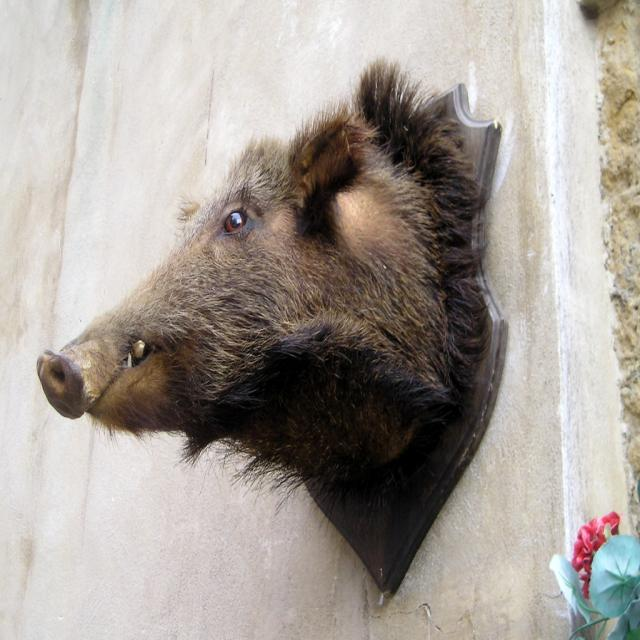Pig: (36, 53, 491, 532)
